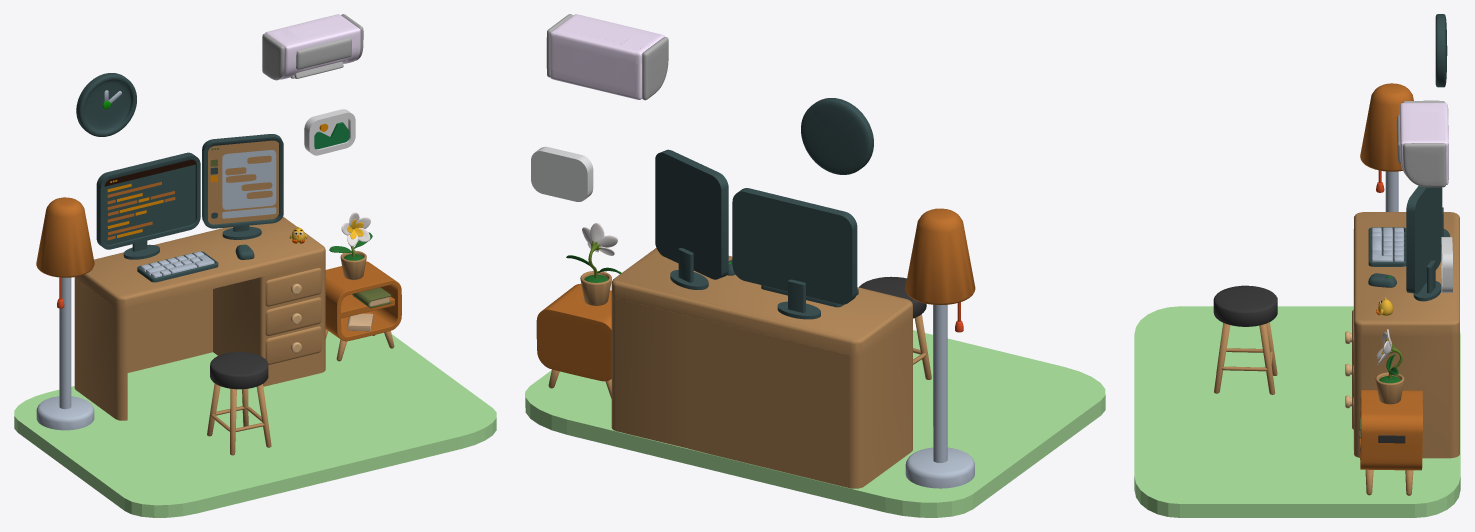
The model's file is office-3d-2224.glb.
3 renders of one model, left to right at view 1: azimuth 30°, elevation 25°; view 2: azimuth 150°, elevation 25°; view 3: azimuth 270°, elevation 25°, orthographic. The views are drawn at different scales.
Visible parts, largest first — view 1: Plane, Table, Monitor - 1, Stand-lamp, Monitor - 2, Meez, Chair, Wall-Clock, AC, Plane.001, Wall-Picture, FlowerPot (+4 smaller); view 2: Table, Plane, Monitor - 1, Stand-lamp, Monitor - 2, AC, Meez, Wall-Clock, Wall-Picture, FlowerPot, Cube.015, Chair; view 3: Plane, Table, Meez, Chair, Monitor - 2, Stand-lamp, AC, Cube.015, Keyboard, FlowerPot, Wall-Clock, Wall-Picture (+1 smaller).
Part boxes in pixels (box(x1,y1,x2,y2)): Plane: box(14, 331, 496, 517); Table: box(74, 216, 325, 420); Monitor - 1: box(96, 152, 200, 259); Stand-lamp: box(36, 197, 94, 430); Monitor - 2: box(202, 134, 283, 239); Meez: box(325, 261, 401, 341); Chair: box(207, 351, 271, 455); Wall-Clock: box(76, 73, 136, 136); AC: box(265, 14, 360, 79); Plane.001: box(222, 150, 276, 209); Wall-Picture: box(304, 109, 355, 155); FlowerPot: box(329, 212, 372, 279); Table: box(611, 248, 912, 488); Plane: box(525, 330, 1105, 517); Monitor - 1: box(732, 188, 857, 319); Stand-lamp: box(905, 208, 975, 488); Monitor - 2: box(655, 149, 728, 289); AC: box(550, 14, 664, 99); Meez: box(536, 283, 611, 381); Wall-Clock: box(801, 98, 873, 174); Wall-Picture: box(531, 146, 593, 201); FlowerPot: box(566, 223, 621, 305); Cube.015: box(546, 14, 668, 100); Chair: box(859, 276, 931, 379); Plane: box(1134, 306, 1460, 517); Table: box(1345, 212, 1459, 458); Meez: box(1360, 390, 1422, 470); Chair: box(1213, 285, 1277, 394); Monitor - 2: box(1406, 186, 1442, 301); Stand-lamp: box(1360, 83, 1413, 211); AC: box(1399, 103, 1448, 184); Cube.015: box(1402, 100, 1446, 187); Keyboard: box(1368, 227, 1406, 266); FlowerPot: box(1375, 329, 1404, 404); Wall-Clock: box(1435, 14, 1447, 87); Wall-Picture: box(1441, 237, 1452, 292).
Bounding box in the file's own units: 3.33 × 2.82 × 2.32.
